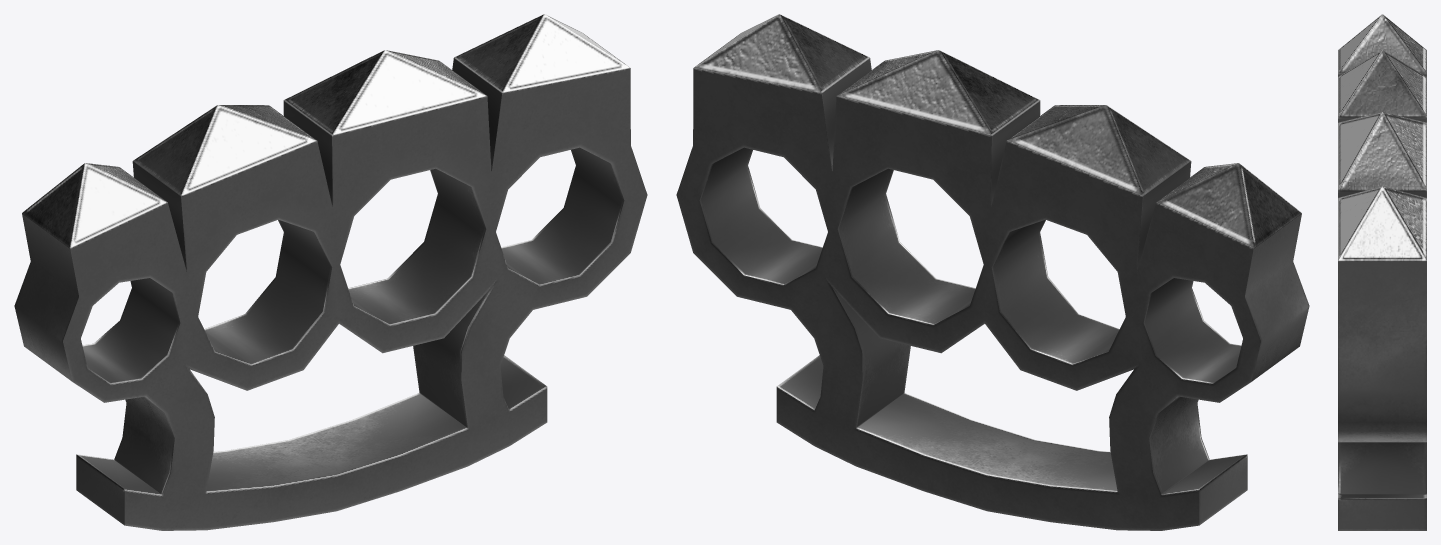
The model's file is BrassKnucle.fbx.
3 views of the same model, side by side, from view 1: azimuth 30°, elevation 25°; view 2: azimuth 150°, elevation 25°; view 3: azimuth 270°, elevation 25° (orthographic). The views are drawn at different scales.
Parts seen in each view (by area): view 1: Brass knuckles; view 2: Brass knuckles; view 3: Brass knuckles.
Part boxes in pixels (x1=…): Brass knuckles: x1=14, y1=14, x2=647, y2=530; Brass knuckles: x1=676, y1=14, x2=1309, y2=530; Brass knuckles: x1=1338, y1=14, x2=1426, y2=530.
Size of the model in its own units: 7.25 by 5.04 by 1.04.
Materials: 1 (1 with a texture image).
